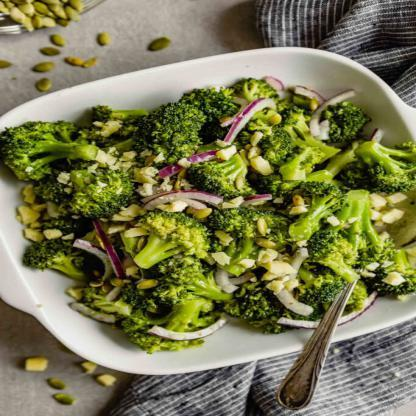broccoli: (0, 77, 415, 355)
